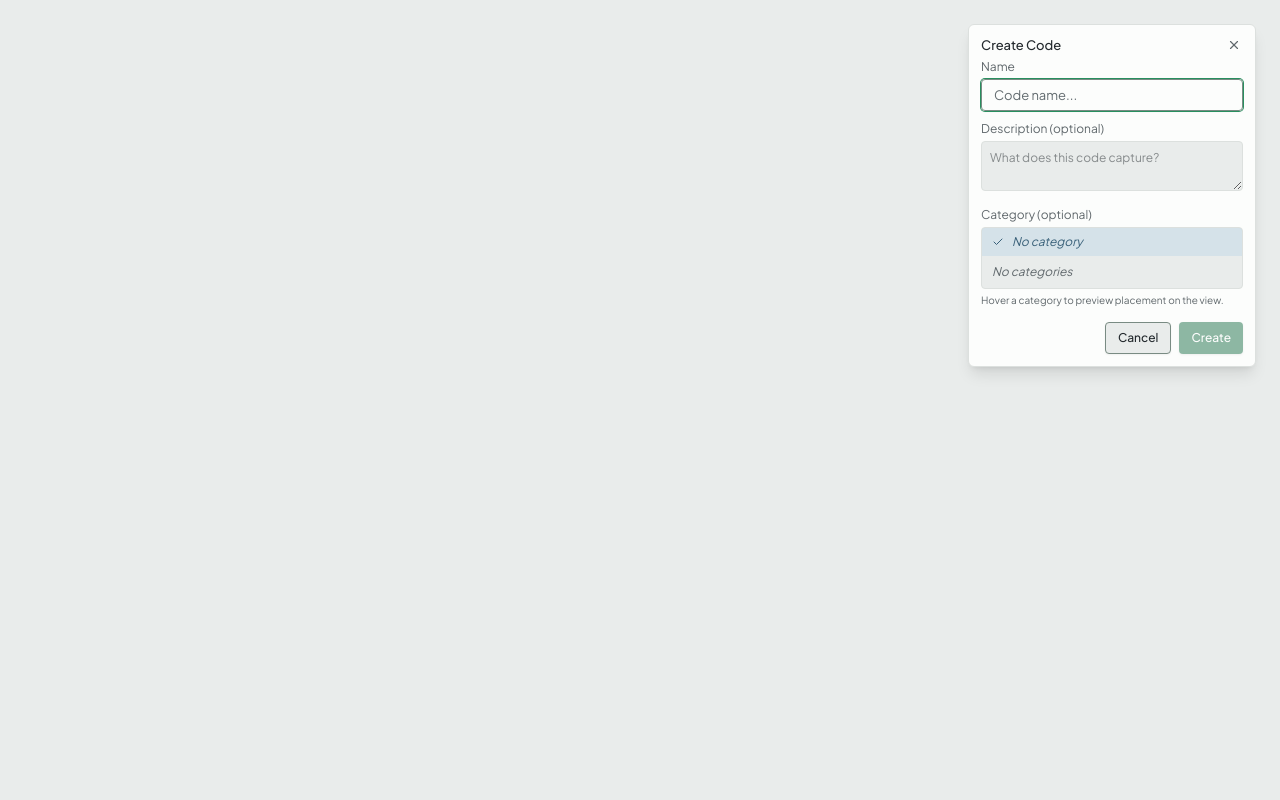
it: CreateCodePanel › says nothing, and blocks nothing, while the list is unanswered
In the field with placeholder "Code name...": (1112, 95) [981, 79, 1243, 111], type "Pacing"
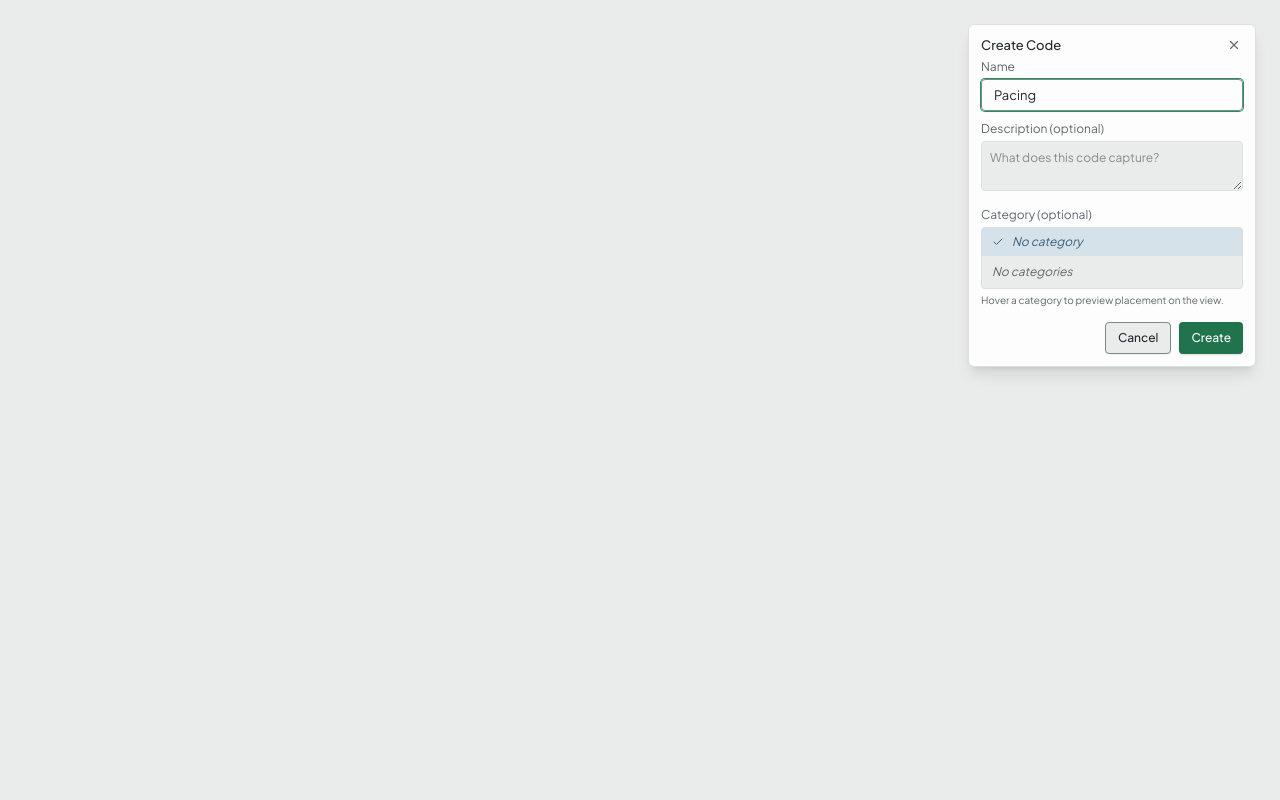
Expected: the button "Create" is enabled, [1180, 322, 1243, 354]
